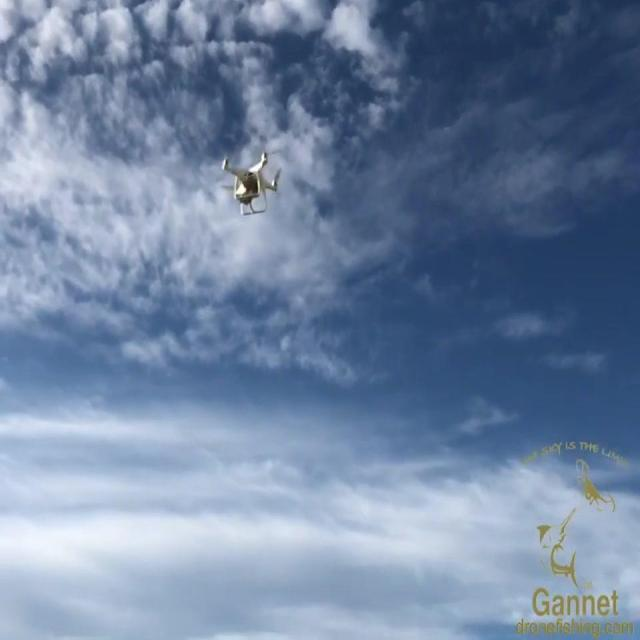drone: (219, 146, 284, 218)
